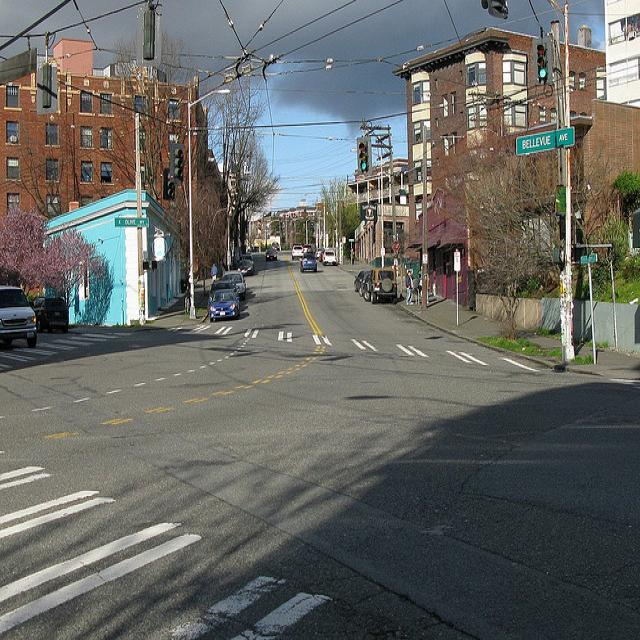Vehicle: (1, 284, 37, 346), (33, 296, 70, 332), (208, 290, 242, 322), (370, 268, 398, 305), (209, 278, 240, 296), (222, 272, 245, 296), (354, 271, 371, 301), (299, 253, 318, 272), (237, 260, 255, 275), (322, 250, 337, 265), (292, 245, 304, 260), (266, 248, 278, 262), (316, 248, 322, 258)
